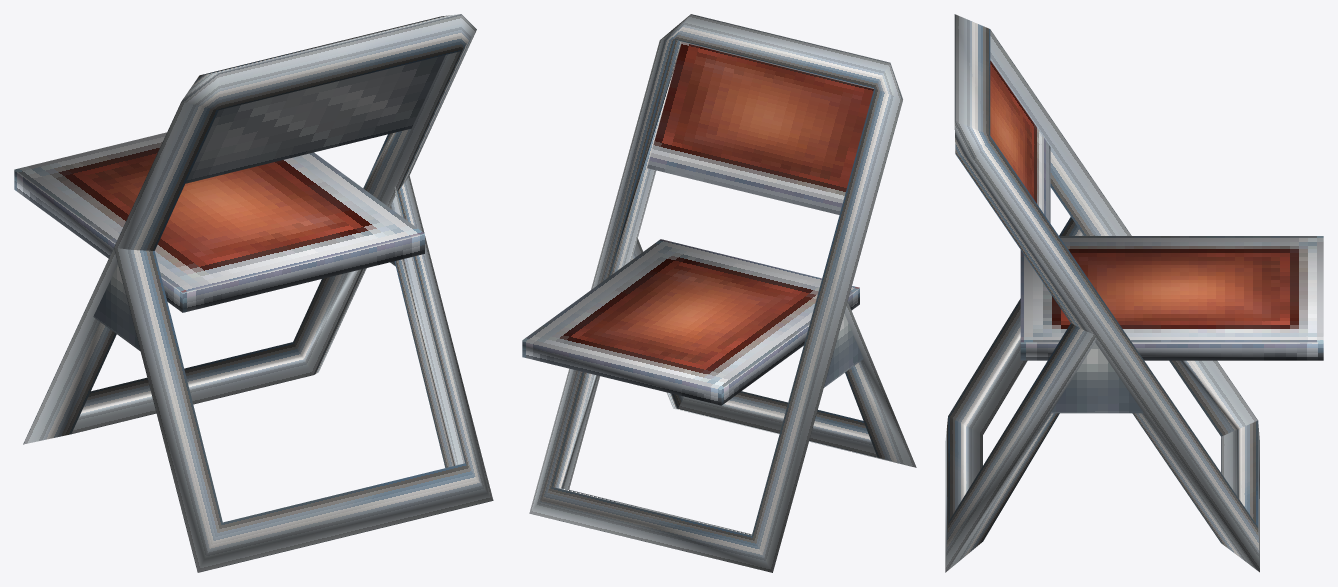
File: c_SCchair05.glb
The picture shows the model from 3 angles, left to right: view 1: azimuth 30°, elevation 25°; view 2: azimuth 150°, elevation 25°; view 3: azimuth 270°, elevation 25°; orthographic projection. The views are drawn at different scales.
Parts seen in each view (by area): view 1: c_SCchair05; view 2: c_SCchair05; view 3: c_SCchair05.
Boxes of the visible parts, left/top/right/bottom form: c_SCchair05: left=14, top=14, right=493, bottom=572; c_SCchair05: left=522, top=14, right=916, bottom=572; c_SCchair05: left=945, top=14, right=1323, bottom=572.
Size of the model in its own units: 0.5763 by 0.9116 by 0.7094.
Materials: 1 (1 with a texture image).
